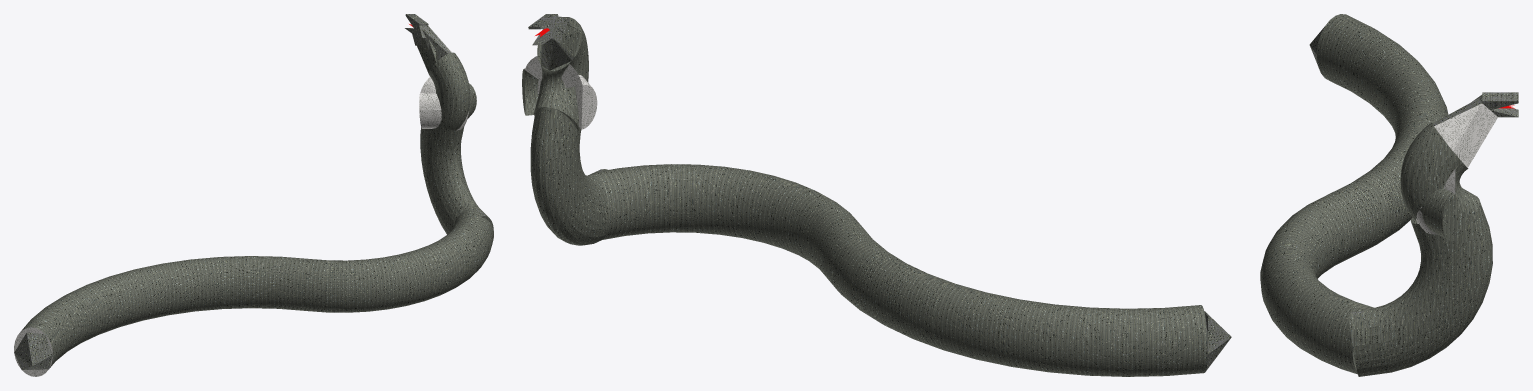
Rendered from cobra.fbx.
3 views of the same model, side by side, from view 1: azimuth 30°, elevation 25°; view 2: azimuth 150°, elevation 25°; view 3: azimuth 270°, elevation 25° (orthographic). The views are drawn at different scales.
Parts seen in each view (by area): view 1: Model; view 2: Model; view 3: Model.
Boxes of the visible parts, x1,y1,x2,y2 form: Model: (14,14,493,376); Model: (522,14,1231,376); Model: (1260,14,1518,376).
Bounding box in the file's own units: 14.26 × 5.71 × 4.83.
